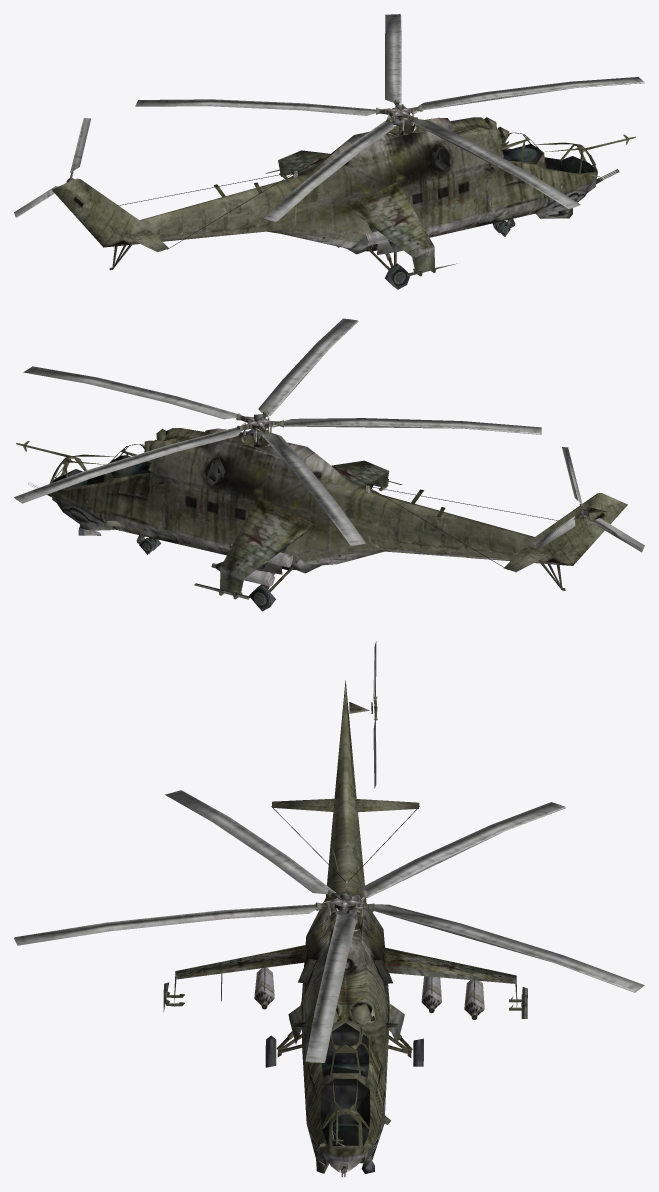
3 views of the same model, one above another, from view 1: azimuth 30°, elevation 25°; view 2: azimuth 150°, elevation 25°; view 3: azimuth 270°, elevation 25° (orthographic). The views are drawn at different scales.
Visible parts, largest first — view 1: 1_Material_0; view 2: 1_Material_0; view 3: 1_Material_0.
Part boxes in pixels (<box>): 1_Material_0: <box>14,14,644,289</box>; 1_Material_0: <box>14,318,644,611</box>; 1_Material_0: <box>14,641,644,1177</box>.
Size of the model in its own units: 18 by 5.86 by 12.86.
1 material, 1 textured.
